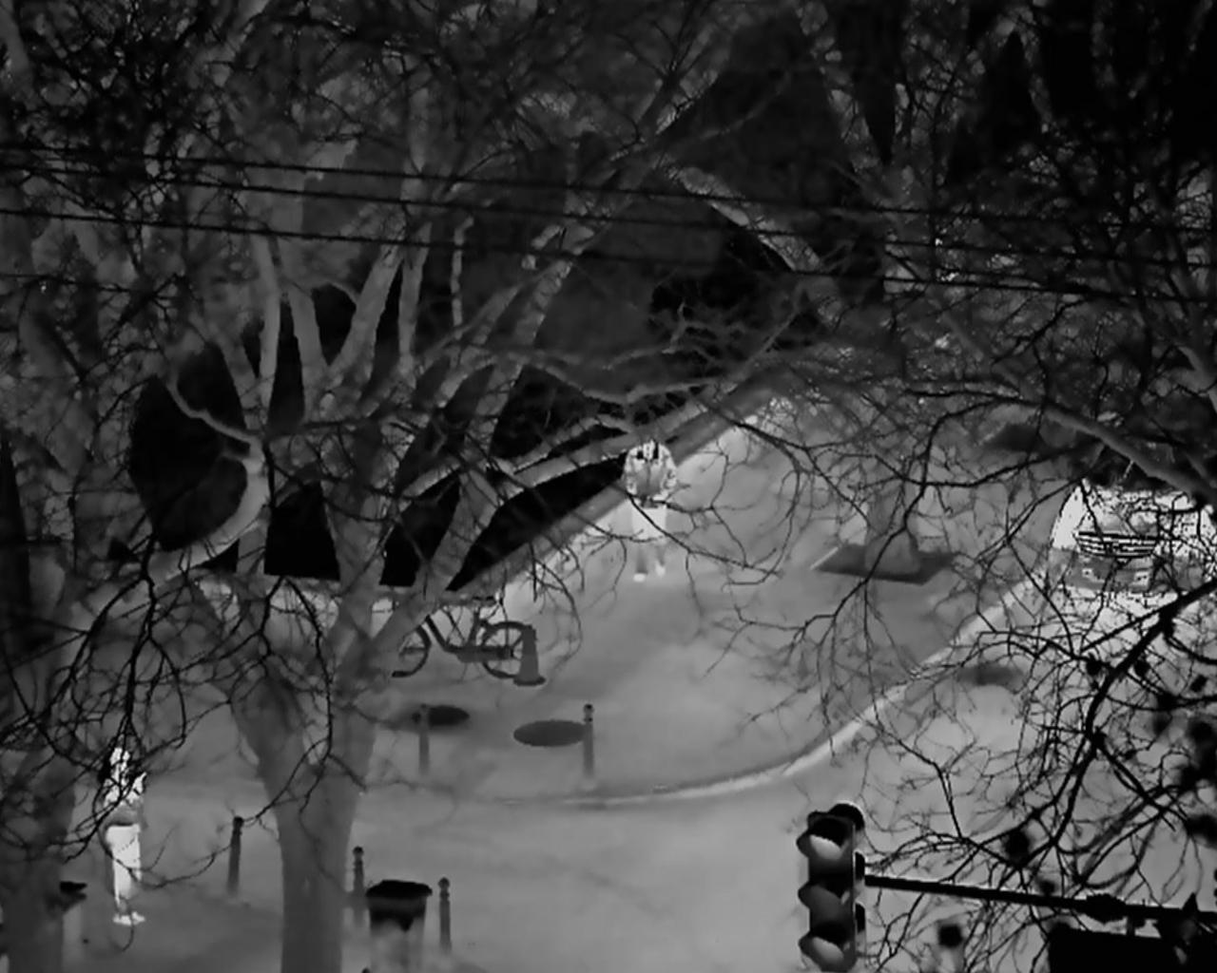person: (104, 745, 147, 925), (623, 442, 678, 581)
